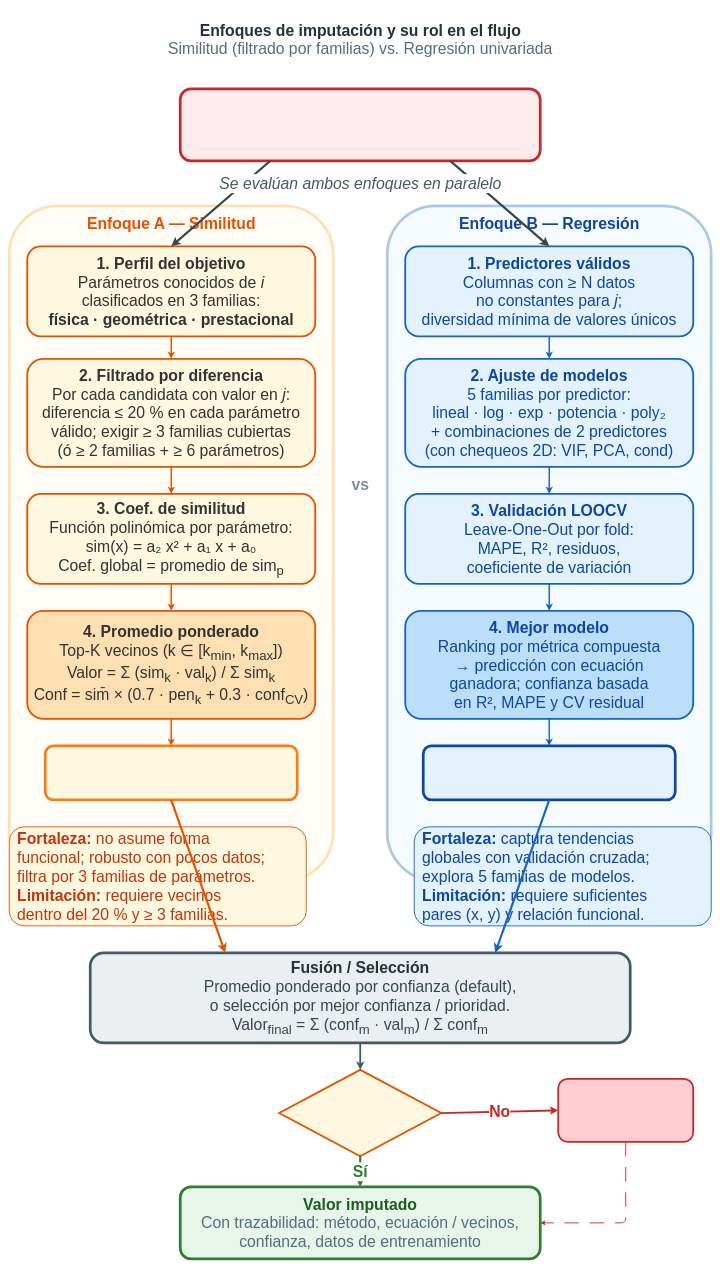
Some shapes in this 720 by 1268 pixel diagram are drawn without their labels. The box of each missing label's shape, as (x1, y1, x2, y2) in pixels:
Celda faltante Aeronave i × Parámetro j = NaN: (179, 87, 541, 162)
Queda NaN siguiente iteración: (557, 1078, 694, 1143)
Valor reg + Confianza + R² + MAPE: (422, 744, 676, 801)
Valor sim + Confianza + dispersión: (44, 744, 298, 801)
¿Confianza ≥ umbral?: (278, 1069, 442, 1157)
